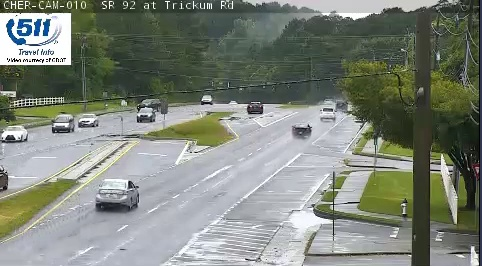car: (96, 178, 139, 206), (291, 123, 311, 138), (319, 107, 336, 120)
